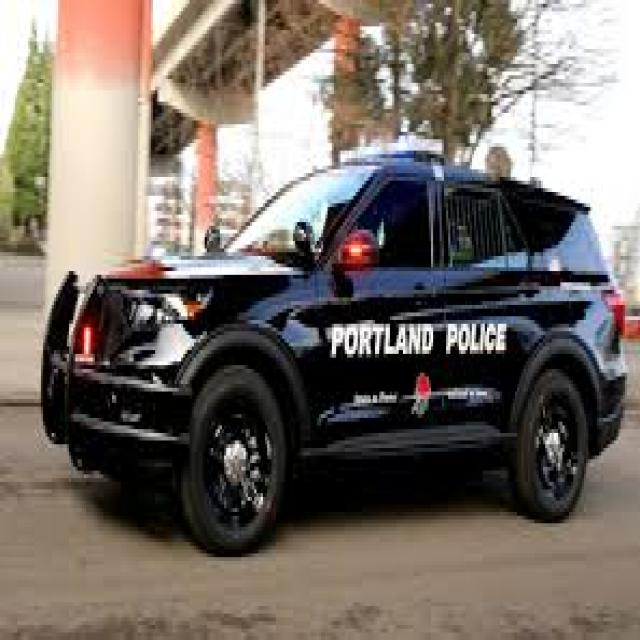cop: (39, 142, 624, 555)
